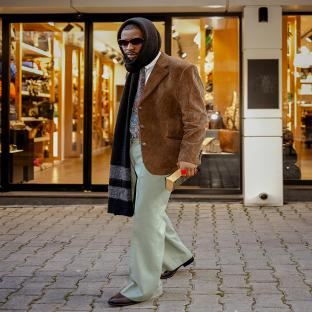Human: (108, 18, 208, 306)
